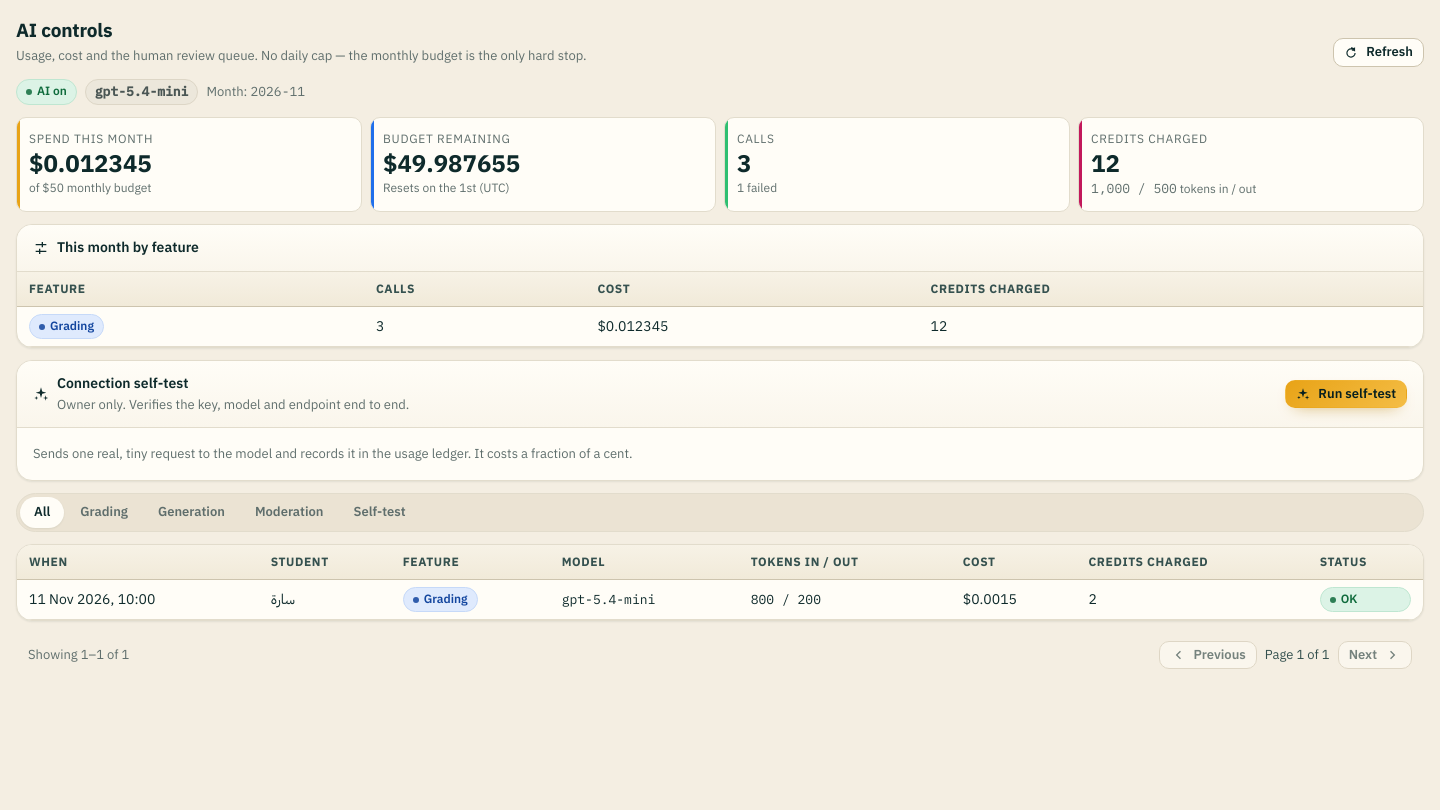
Test: AiPage › shows the self-test to the owner and reports a pass with the model
Click the button "Run self-test": point(1346, 394) [1285,380,1407,408]
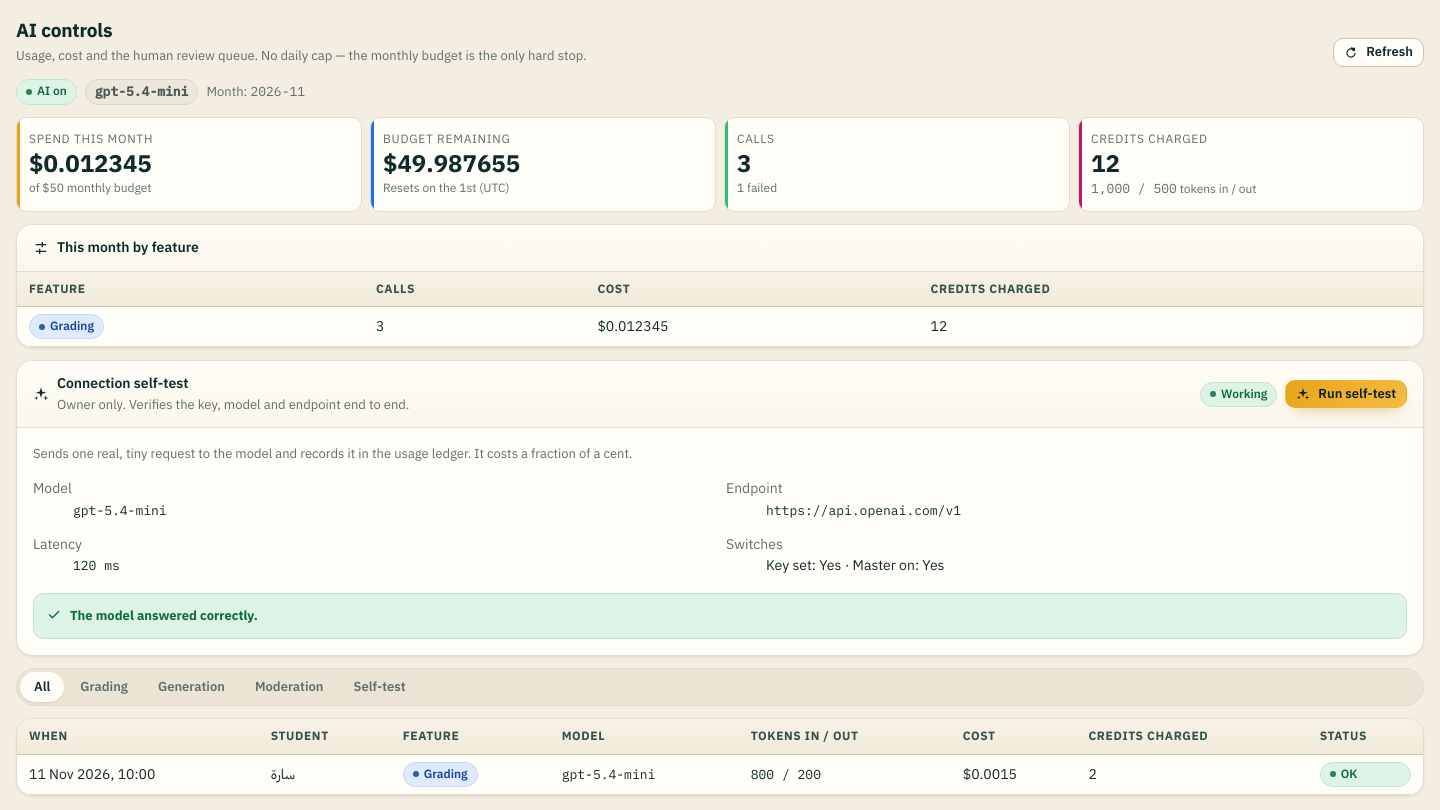
Check: the text "The model answered correctly." is shown, box [70,606,258,625]
Check: the text "Working" is shown, box [1200,382,1277,407]
Check: the text "120 ms" is shown, box [73,557,120,574]
